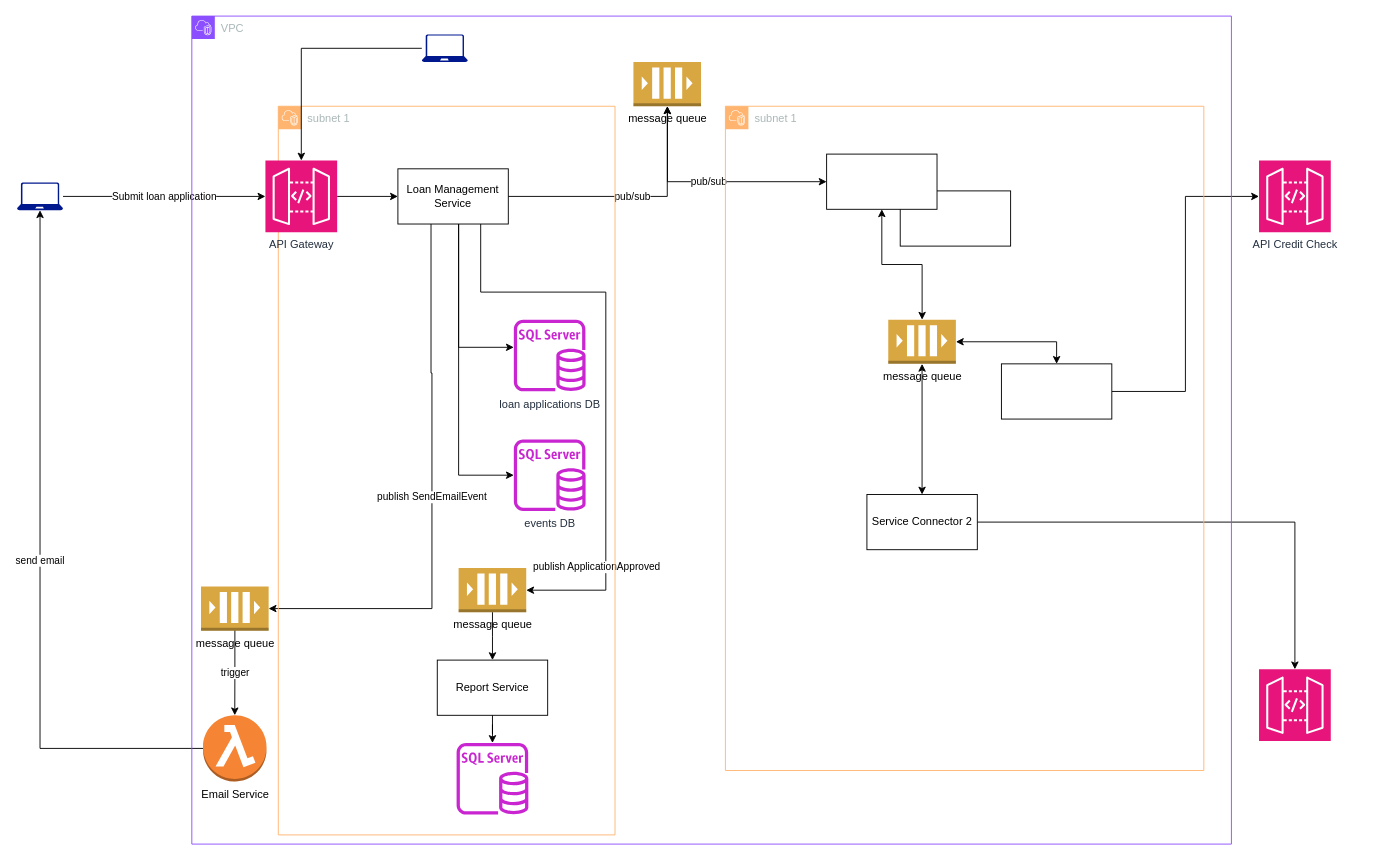
Image size: 1379x860. Some labels were removed from this diagram. Each missing label, with the centre of its shape:
"Connector Manager" belongs at point 881,181.
"loan provider agents" belongs at point 444,48.
"Mock Connector" belongs at point 955,218.
"reports DB" belongs at point 492,778.
"Service Connector" belongs at point 1056,391.
"SFTP server of ACME Bank" belongs at point 1294,704.
"users" belongs at point 40,196.
